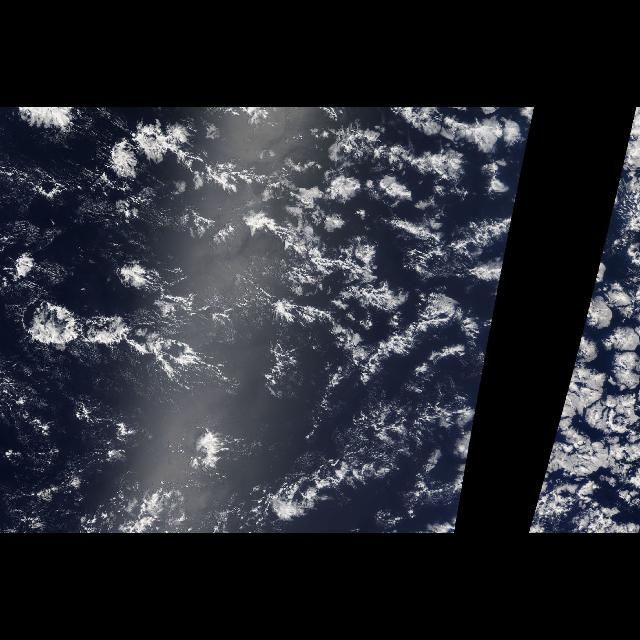Flower: (15, 107, 529, 533), (547, 268, 639, 532)
Gravel: (248, 215, 420, 395)
